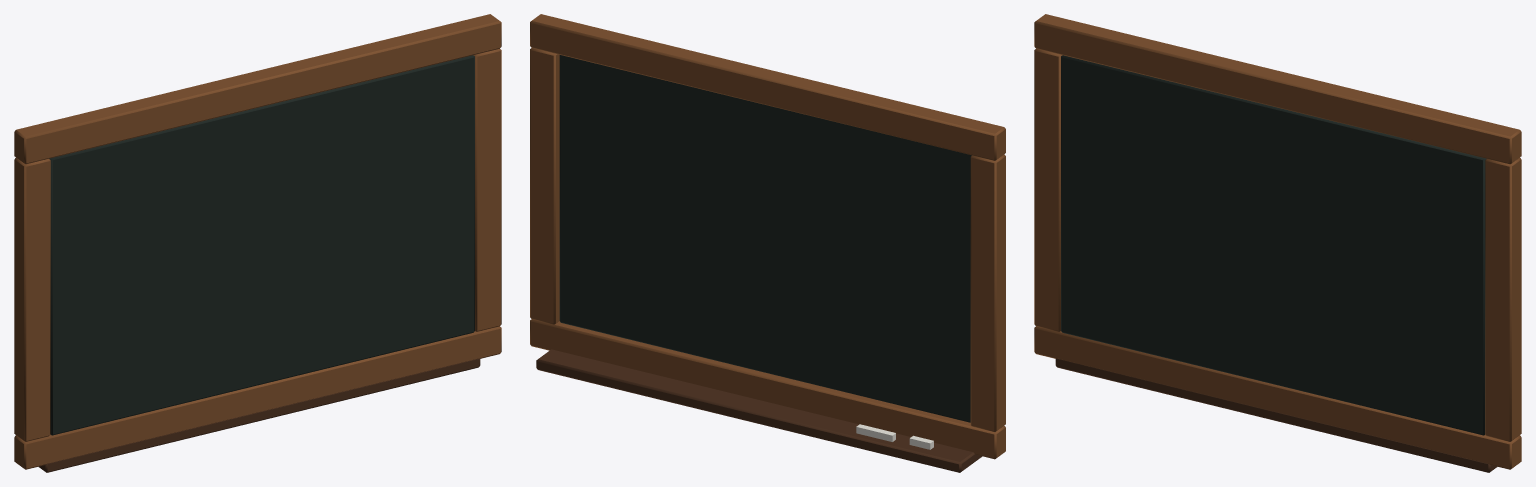
Rendered from ScoreBoard.fbx.
3 views of the same model, side by side, from view 1: azimuth 30°, elevation 25°; view 2: azimuth 150°, elevation 25°; view 3: azimuth 330°, elevation 25° (orthographic). The views are drawn at different scales.
Parts seen in each view (by area): view 1: ScoreBoard; view 2: ScoreBoard; view 3: ScoreBoard.
Boxes of the visible parts, <box> form: ScoreBoard: <box>14,14,501,472</box>; ScoreBoard: <box>530,14,1005,472</box>; ScoreBoard: <box>1034,14,1521,472</box>.
Size of the model in its own units: 0.9 by 0.615 by 0.085.
